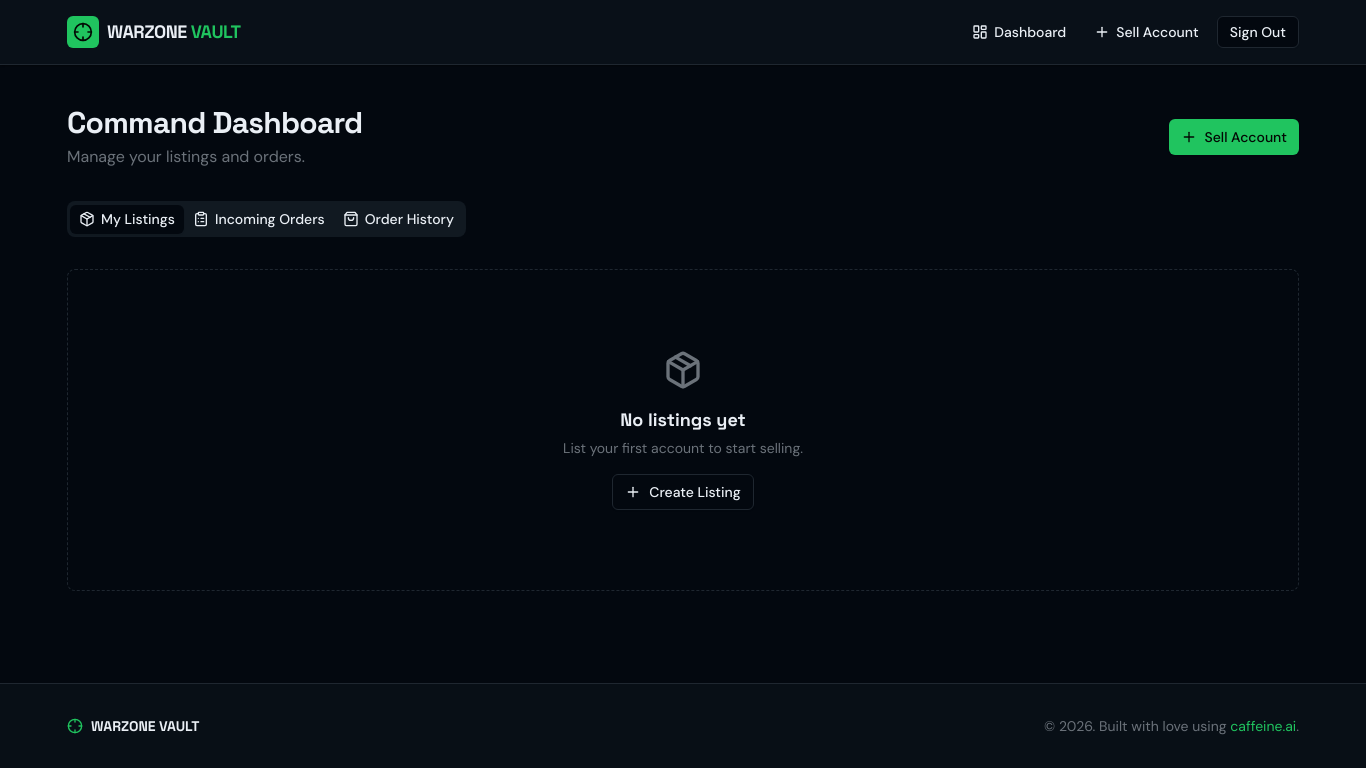
Test: Dashboard › shows the buyer's order history
Click the tab "Order History".
click(398, 219)  # box [334,204,463,234]
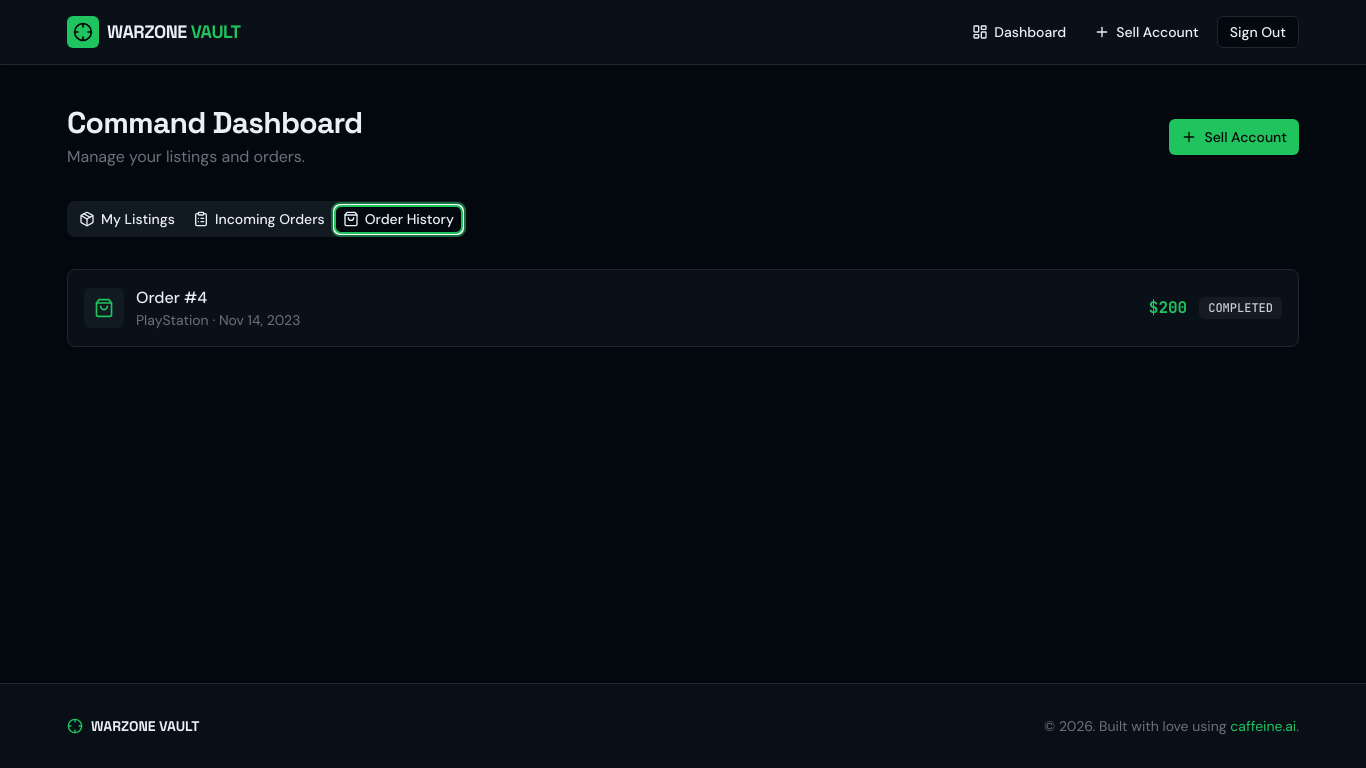
Now the text "Order #4" is shown, box [136,287,207,308]
Now the text "completed" is shown, box [1199,297,1282,319]
Now the text "$200" is shown, box [1149,296,1187,320]
